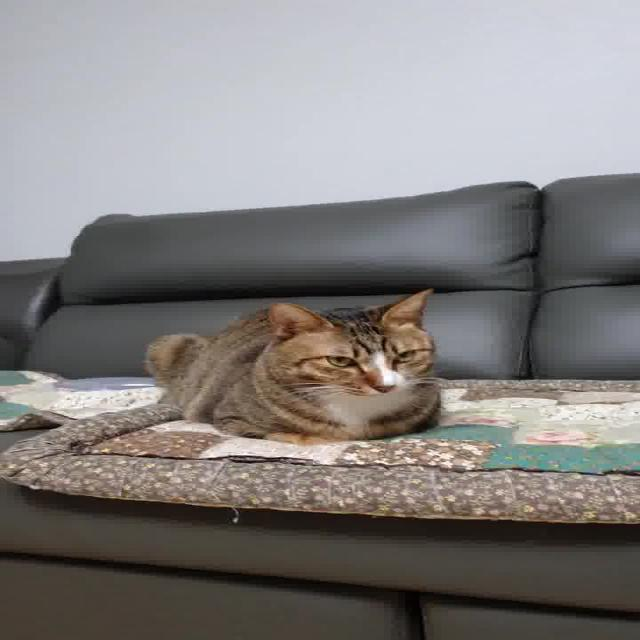cat: (111, 283, 496, 455)
